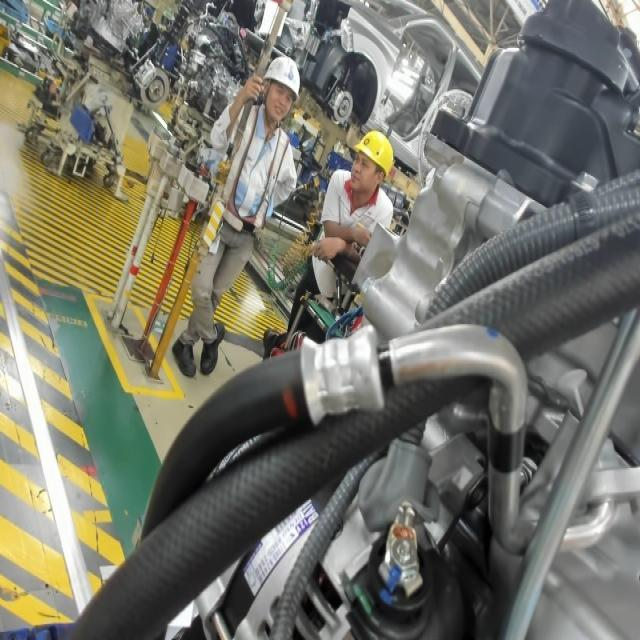Alternator-BA1: (293, 502, 320, 538)
Hose Discharge-HT: (487, 415, 527, 475)
